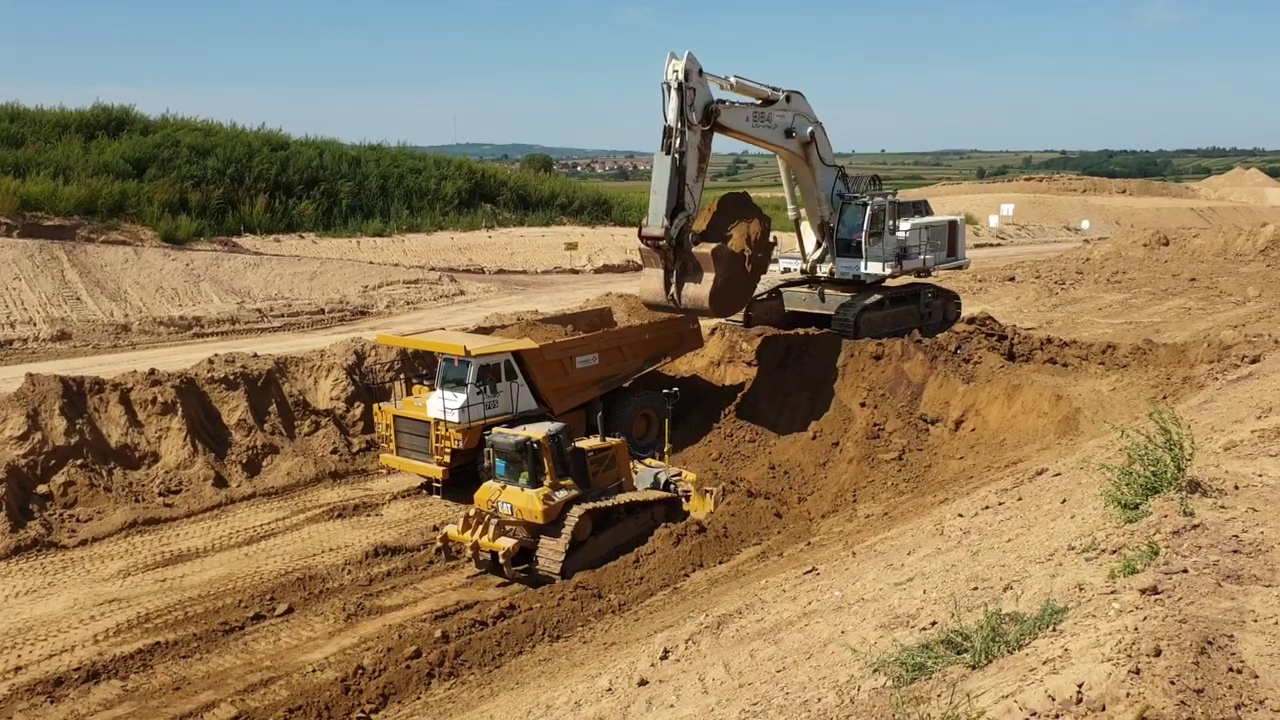bulldozer: (435, 383, 728, 588)
excavator: (632, 38, 970, 345)
truck: (359, 306, 709, 505)
